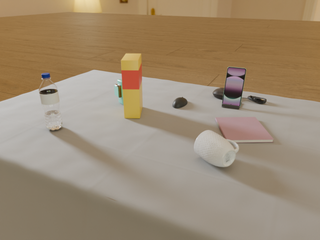book: (215, 117, 273, 143)
bottle: (39, 73, 63, 131)
box: (121, 54, 142, 118)
cup: (194, 130, 239, 167)
mouse: (173, 97, 187, 108), (213, 88, 224, 99)
phone: (222, 67, 246, 106)
toy_car: (114, 79, 123, 104)
